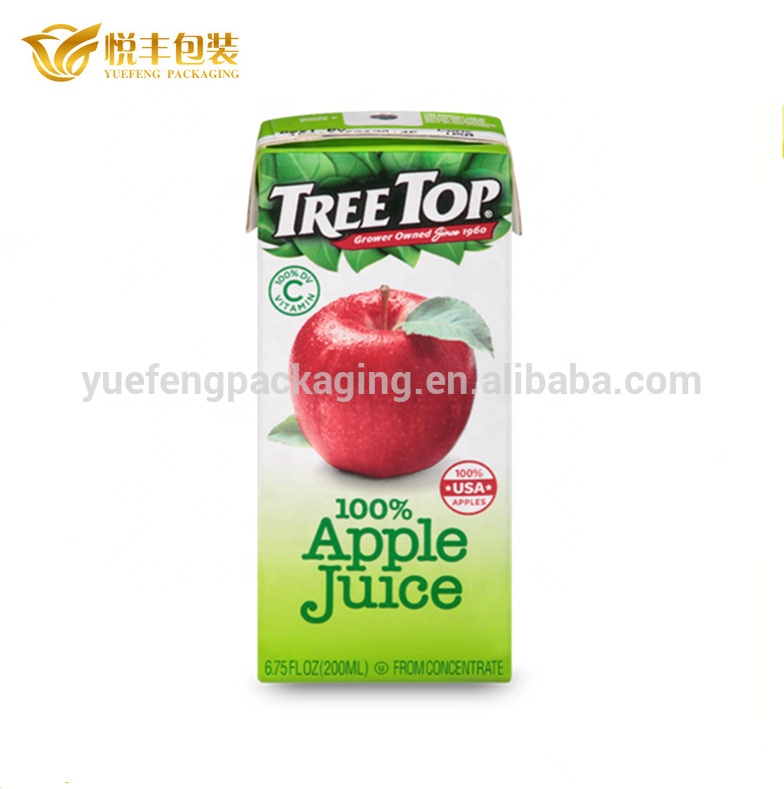carton: (239, 95, 546, 717)
